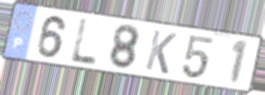1: (228, 38, 250, 86)
5: (180, 33, 216, 80)
6: (35, 15, 69, 60)
8: (107, 23, 142, 72)
K: (143, 28, 179, 77)
L: (68, 17, 99, 67)
